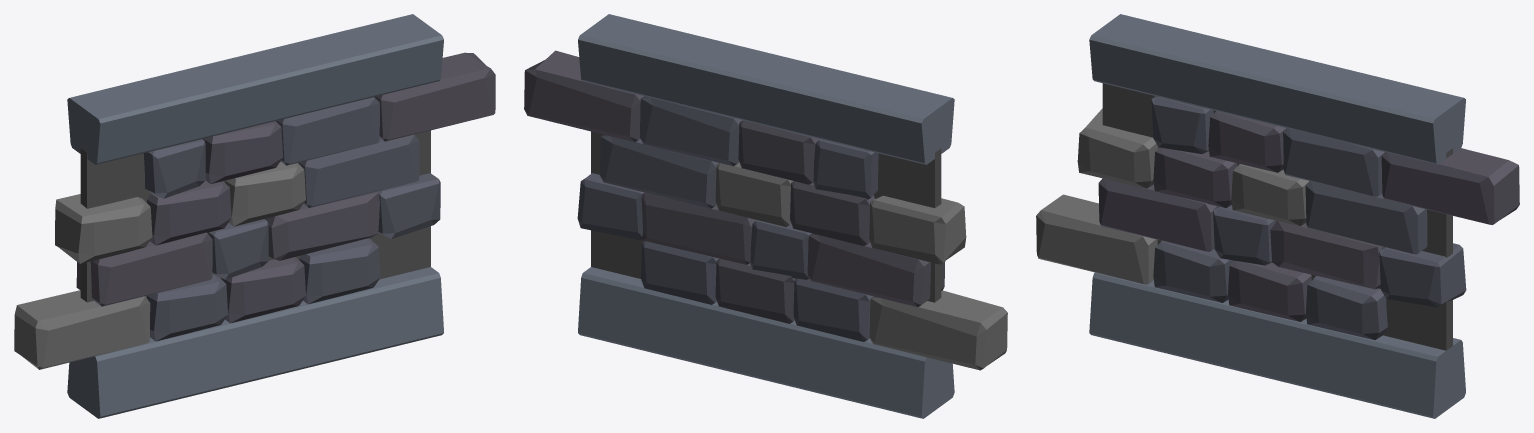
Rendered from Brick_Wall.fbx.
3 views of the same model, side by side, from view 1: azimuth 30°, elevation 25°; view 2: azimuth 150°, elevation 25°; view 3: azimuth 330°, elevation 25° (orthographic).
Parts seen in each view (by area): view 1: Muro_Ladrillo; view 2: Muro_Ladrillo; view 3: Muro_Ladrillo.
Boxes of the visible parts, bbox=[...] form: Muro_Ladrillo: bbox=[14, 14, 495, 418]; Muro_Ladrillo: bbox=[524, 14, 1007, 418]; Muro_Ladrillo: bbox=[1036, 14, 1519, 418].
Size of the model in its own units: 805 by 500 by 100.
